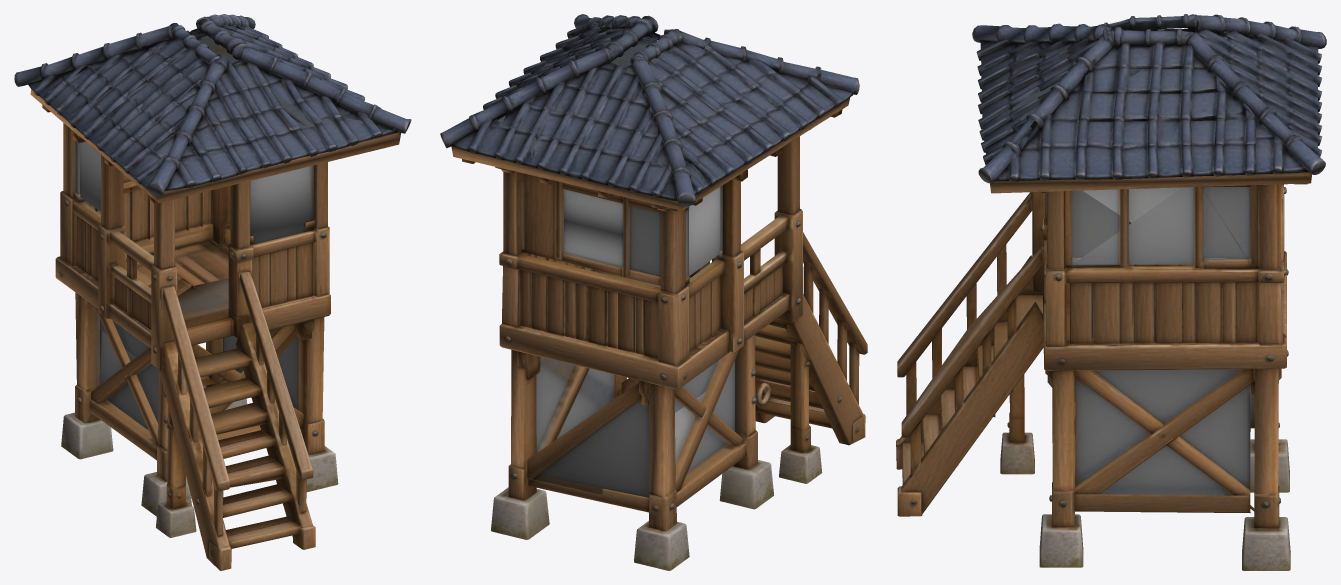
Rendered from judges_tower.glb.
The picture shows the model from 3 angles, left to right: view 1: azimuth 30°, elevation 25°; view 2: azimuth 150°, elevation 25°; view 3: azimuth 270°, elevation 25°; orthographic projection. The views are drawn at different scales.
Visible parts, largest first — view 1: tripo_node_13d66ee9-7f6a-447a-a77d-ada02b839472; view 2: tripo_node_13d66ee9-7f6a-447a-a77d-ada02b839472; view 3: tripo_node_13d66ee9-7f6a-447a-a77d-ada02b839472.
Boxes of the visible parts, bbox=[...] form: tripo_node_13d66ee9-7f6a-447a-a77d-ada02b839472: bbox=[14, 14, 411, 570]; tripo_node_13d66ee9-7f6a-447a-a77d-ada02b839472: bbox=[440, 14, 867, 570]; tripo_node_13d66ee9-7f6a-447a-a77d-ada02b839472: bbox=[896, 14, 1326, 570].
Size of the model in its own units: 0.6284 by 0.9995 by 0.7729.
Materials: 1 (1 with a texture image).
